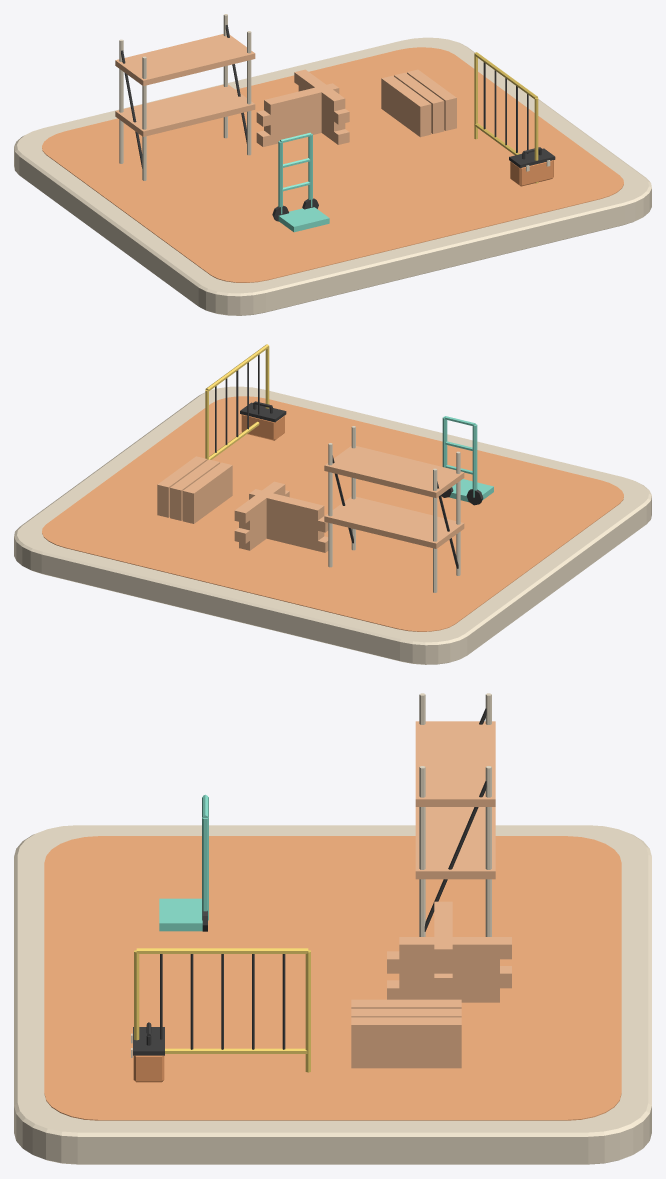
The picture shows the model from 3 angles, top to bottom: view 1: azimuth 30°, elevation 25°; view 2: azimuth 150°, elevation 25°; view 3: azimuth 270°, elevation 25°; orthographic projection. The views are drawn at different scales.
Visible parts, largest first — view 1: COM-02 Floor Surface, COM-01 Rounded Base Direct, Platform.001, Platform, Timber.006, Loading plate, Box, Timber.007, Timber.008, Upright.002, Upright, Timber (+3 smaller); view 2: COM-02 Floor Surface, COM-01 Rounded Base Direct, Platform.001, Platform, Timber.006, Box, Timber.007, Timber.008, Upright.003, Upright.001, Timber.003, Timber (+3 smaller); view 3: COM-02 Floor Surface, COM-01 Rounded Base Direct, Platform.001, Platform, Timber.008, Timber.002, Timber.005, Loading plate, Timber.006, Timber.007, Upright.002, Upright.003 (+8 smaller).
Boxes of the visible parts, left/top/right/bottom form: COM-02 Floor Surface: left=42, top=47, right=623, bottom=282; COM-01 Rounded Base Direct: left=14, top=37, right=651, bottom=315; Platform.001: left=115, top=34, right=255, bottom=85; Platform: left=115, top=84, right=255, bottom=136; Timber.006: left=381, top=75, right=431, bottom=116; Loading plate: left=278, top=207, right=329, bottom=232; Box: left=510, top=160, right=553, bottom=186; Timber.007: left=394, top=72, right=444, bottom=113; Timber.008: left=407, top=69, right=456, bottom=110; Upright.002: left=247, top=31, right=251, bottom=155; Upright: left=142, top=56, right=146, bottom=180; Timber: left=381, top=99, right=431, bottom=137; COM-02 Floor Surface: left=42, top=396, right=623, bottom=631; COM-01 Rounded Base Direct: left=14, top=386, right=651, bottom=664; Platform.001: left=324, top=446, right=464, bottom=498; Platform: left=324, top=496, right=464, bottom=548; Timber.006: left=182, top=462, right=232, bottom=503; Box: left=241, top=414, right=284, bottom=440; Timber.007: left=170, top=459, right=219, bottom=500; Timber.008: left=157, top=456, right=207, bottom=497; Upright.003: left=328, top=443, right=332, bottom=567; Upright.001: left=433, top=468, right=437, bottom=592; Timber.003: left=182, top=475, right=232, bottom=513; Timber: left=182, top=486, right=232, bottom=523; COM-02 Floor Surface: left=44, top=836, right=621, bottom=1120; COM-01 Rounded Base Direct: left=14, top=825, right=651, bottom=1164; Platform.001: left=415, top=721, right=495, bottom=806; Platform: left=415, top=807, right=495, bottom=879; Timber.008: left=351, top=1017, right=461, bottom=1039; Timber.002: left=351, top=1054, right=461, bottom=1068; Timber.005: left=351, top=1039, right=461, bottom=1053; Loading plate: left=159, top=898, right=202, bottom=931; Timber.006: left=351, top=999, right=461, bottom=1008; Timber.007: left=351, top=1008, right=461, bottom=1017; Upright.002: left=419, top=766, right=425, bottom=936; Upright.003: left=485, top=766, right=491, bottom=936.
Bounding box in the file's own units: 6 × 1.87 × 5.2.
1 material, 1 textured.
